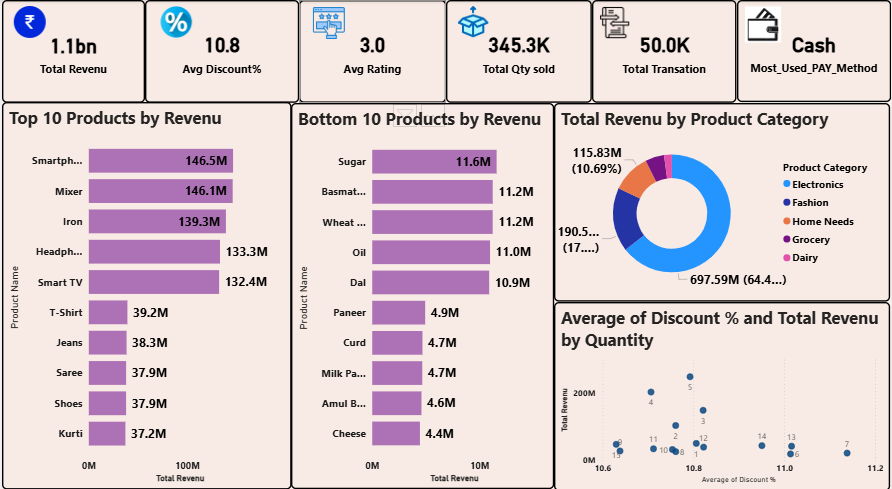

What the dashboard file says about the page in this screenshot:
{"tool":"powerbi","page":{"name":"Product performance ","canvas":[1280,720],"ordinal":1},"visuals":[{"type":"card","fields":{"Values":["dmart_data.Total Transation"]},"box":[850,0,208.3,147.8],"z":0},{"type":"card","fields":{"Values":["dmart_data.Avg Discount%"]},"box":[206.6,0,221.7,147.8],"z":1000},{"type":"card","fields":{"Values":["dmart_data.Avg Rating"]},"box":[428.3,0,211.7,147.8],"z":2000},{"type":"card","fields":{"Values":["dmart_data.Total Qty sold"]},"box":[640,0,210,147.8],"z":3000},{"type":"card","fields":{"Values":["dmart_data.Total Revenu"]},"box":[0,0,205.9,148.3],"z":4000},{"type":"card","fields":{"Values":["dmart_data.Most_Used_PAY_Method"]},"box":[1058.4,0,221.6,147.2],"z":5000},{"type":"clusteredBarChart","title":"Top 10 Products by Revenu ","fields":{"Category":["dmart_data.Product Name"],"Y":["dmart_data.Total Revenu"]},"box":[0,146.6,416.5,557.8],"z":6000},{"type":"image","box":[0,8.6,79.2,46.1],"z":7000},{"type":"image","box":[205.9,8.6,90.7,46.1],"z":8000},{"type":"image","box":[406.1,8.6,128.2,49],"z":9000},{"type":"image","box":[859.7,0,44.6,64.8],"z":10000},{"type":"image","box":[625,7.2,106.6,47.5],"z":11000},{"type":"image","box":[1069.9,4.3,51.8,61.9],"z":12000},{"type":"donutChart","fields":{"Y":["dmart_data.Total Revenu"],"Category":["dmart_data.Product Category"]},"box":[795.5,148.4,484.5,286],"z":13000},{"type":"scatterChart","fields":{"Category":["dmart_data.Quantity"],"X":["Avg(dmart_data.Discount %)"],"Y":["dmart_data.Total Revenu"]},"box":[795.5,434.4,484.5,271.7],"z":14000},{"type":"clusteredBarChart","title":"Bottom 10 Products by Revenu ","fields":{"Category":["dmart_data.Product Name"],"Y":["dmart_data.Total Revenu"]},"box":[416.5,148.4,379,556],"z":15000}]}

Visuals, with their boxes in screenshot pixels (x1, y1, x2, y2), scaled from the page's 1280x720 canvas onto the 892x489 screenshot:
card - dmart_data.Total Transation: [x1=592, y1=0, x2=738, y2=100]
card - dmart_data.Avg Discount%: [x1=144, y1=0, x2=298, y2=100]
card - dmart_data.Avg Rating: [x1=298, y1=0, x2=446, y2=100]
card - dmart_data.Total Qty sold: [x1=446, y1=0, x2=592, y2=100]
card - dmart_data.Total Revenu: [x1=0, y1=0, x2=143, y2=101]
card - dmart_data.Most_Used_PAY_Method: [x1=738, y1=0, x2=891, y2=100]
"Top 10 Products by Revenu " clusteredBarChart: [x1=0, y1=100, x2=290, y2=478]
image: [x1=0, y1=6, x2=55, y2=37]
image: [x1=143, y1=6, x2=207, y2=37]
image: [x1=283, y1=6, x2=372, y2=39]
image: [x1=599, y1=0, x2=630, y2=44]
image: [x1=436, y1=5, x2=510, y2=37]
image: [x1=746, y1=3, x2=782, y2=45]
donutChart - dmart_data.Total Revenu x dmart_data.Product Category: [x1=554, y1=101, x2=891, y2=295]
scatterChart - dmart_data.Quantity x Avg(dmart_data.Discount %): [x1=554, y1=295, x2=891, y2=480]
"Bottom 10 Products by Revenu " clusteredBarChart: [x1=290, y1=101, x2=554, y2=478]
